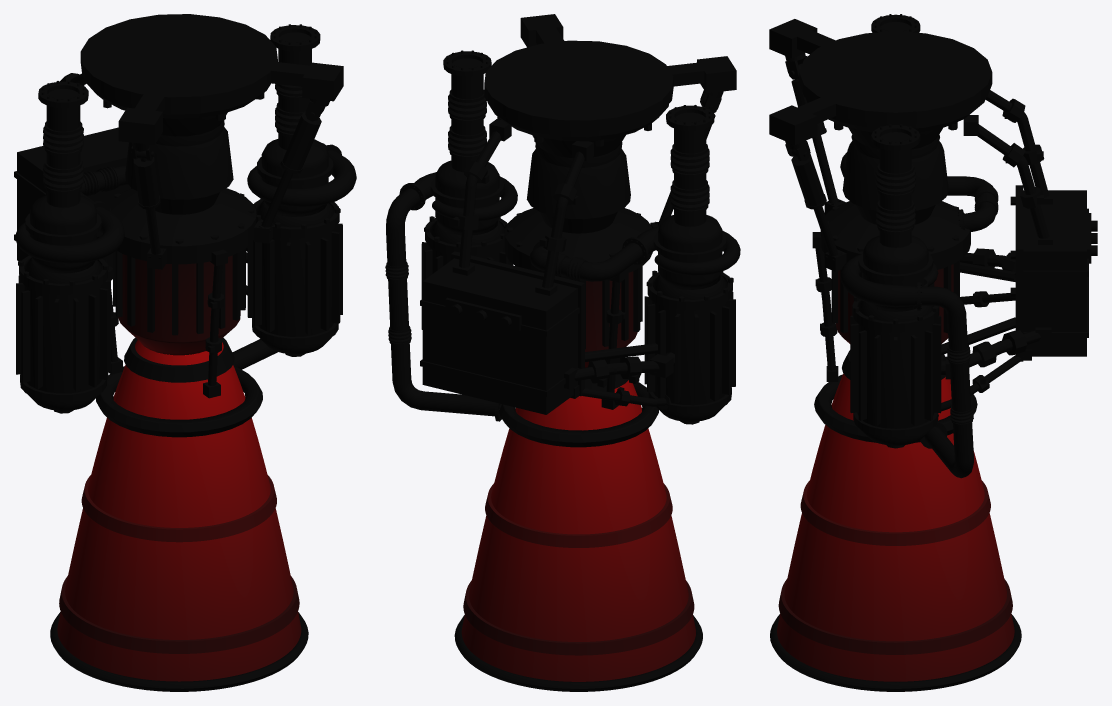
File: eng_electric_pump_mini.fbx
The picture shows the model from 3 angles, left to right: view 1: azimuth 30°, elevation 25°; view 2: azimuth 150°, elevation 25°; view 3: azimuth 270°, elevation 25°; orthographic projection. The views are drawn at different scales.
Parts seen in each view (by area): view 1: eng_electric_pump_mini_LOD0; view 2: eng_electric_pump_mini_LOD0; view 3: eng_electric_pump_mini_LOD0.
Part boxes in pixels (x1,y1,x2,y2): eng_electric_pump_mini_LOD0: [14, 14, 356, 691]; eng_electric_pump_mini_LOD0: [385, 14, 740, 691]; eng_electric_pump_mini_LOD0: [769, 14, 1097, 691].
Size of what is drawn, in the model's own units: 0.3883 by 0.65 by 0.34.
